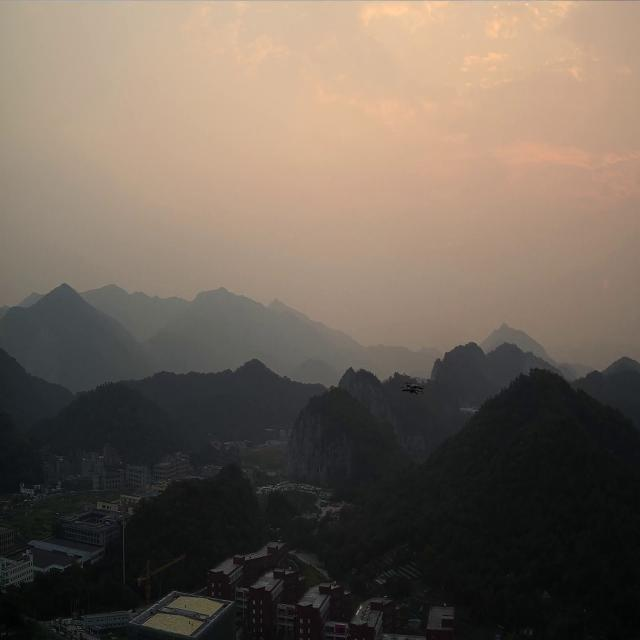drone: (400, 382, 424, 394)
